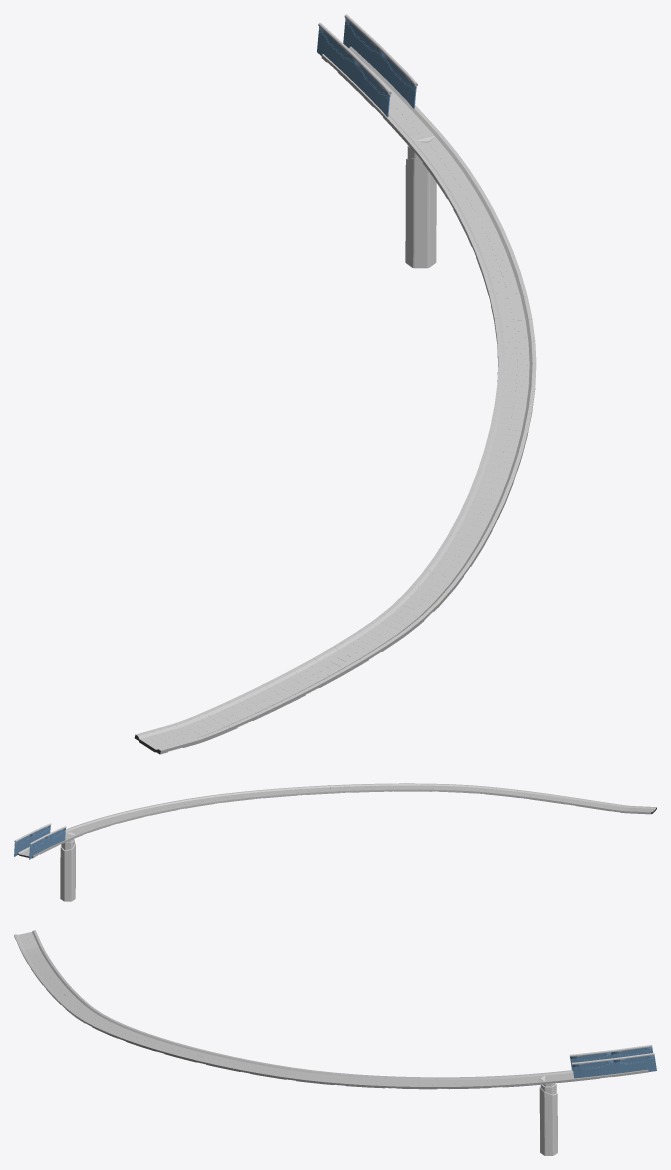
The picture shows the model from 3 angles, top to bottom: view 1: azimuth 30°, elevation 25°; view 2: azimuth 150°, elevation 25°; view 3: azimuth 270°, elevation 25°; orthographic projection. The views are drawn at different scales.
Parts seen in each view (by area): view 1: KB3D_HTS_Road_H_Main.002, 圓柱體.001, KB3D_HTS_PathA_E_Main, KB3D_HTS_PathA_E_Main.001; view 2: KB3D_HTS_Road_H_Main.002, 圓柱體.001, KB3D_HTS_PathA_E_Main, KB3D_HTS_PathA_E_Main.001; view 3: KB3D_HTS_Road_H_Main.002, KB3D_HTS_PathA_E_Main.001, 圓柱體.001, KB3D_HTS_PathA_E_Main.
Boxes of the visible parts, x1,y1,x2,y2 form: KB3D_HTS_Road_H_Main.002: [134, 46, 536, 754]; 圓柱體.001: [405, 136, 436, 268]; KB3D_HTS_PathA_E_Main: [317, 22, 391, 117]; KB3D_HTS_PathA_E_Main.001: [343, 14, 417, 108]; KB3D_HTS_Road_H_Main.002: [17, 783, 656, 858]; 圓柱體.001: [60, 832, 75, 901]; KB3D_HTS_PathA_E_Main: [29, 826, 66, 859]; KB3D_HTS_PathA_E_Main.001: [14, 823, 51, 856]; KB3D_HTS_Road_H_Main.002: [14, 930, 648, 1089]; KB3D_HTS_PathA_E_Main.001: [572, 1053, 656, 1078]; 圓柱體.001: [539, 1075, 557, 1155]; KB3D_HTS_PathA_E_Main: [569, 1045, 653, 1070].
Size of the model in its own units: 34417 by 7859 by 44038.
